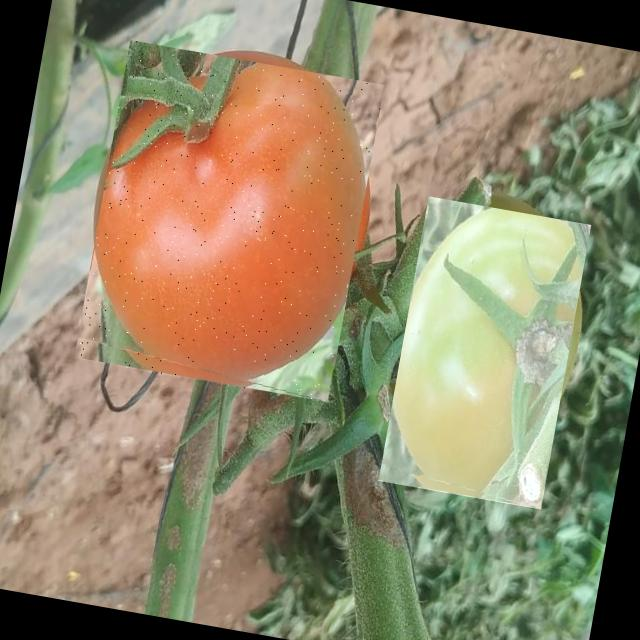Ripe Tomato: (74, 40, 384, 402)
Unripe Tomato: (378, 196, 591, 509)
